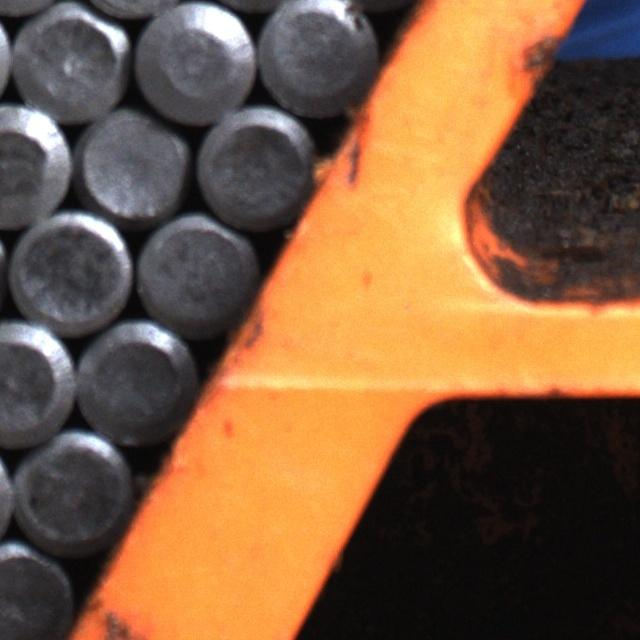tool: (131, 210, 259, 340), (72, 316, 197, 446), (128, 0, 256, 126), (7, 208, 132, 335), (192, 105, 316, 232), (10, 428, 134, 554), (7, 0, 131, 125), (73, 102, 193, 222), (257, 0, 380, 117), (0, 100, 73, 230), (0, 320, 75, 446), (0, 538, 76, 640)
